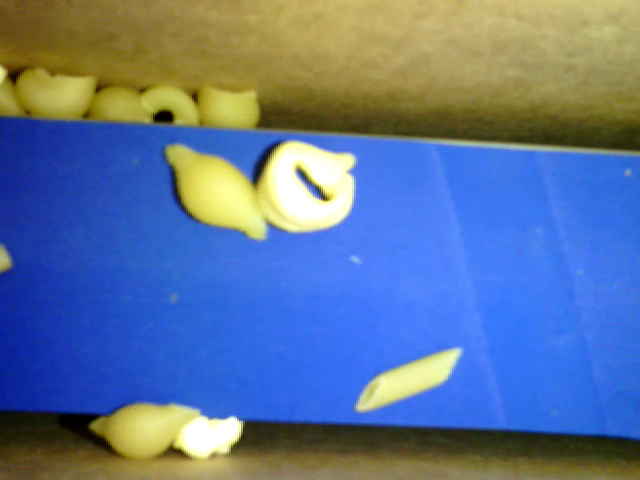elbow: (139, 86, 201, 127)
penne: (351, 345, 462, 414)
shell: (165, 145, 266, 241), (87, 401, 202, 462), (13, 69, 95, 118), (199, 81, 259, 130), (87, 84, 150, 125)
tortellini: (257, 138, 356, 234)
